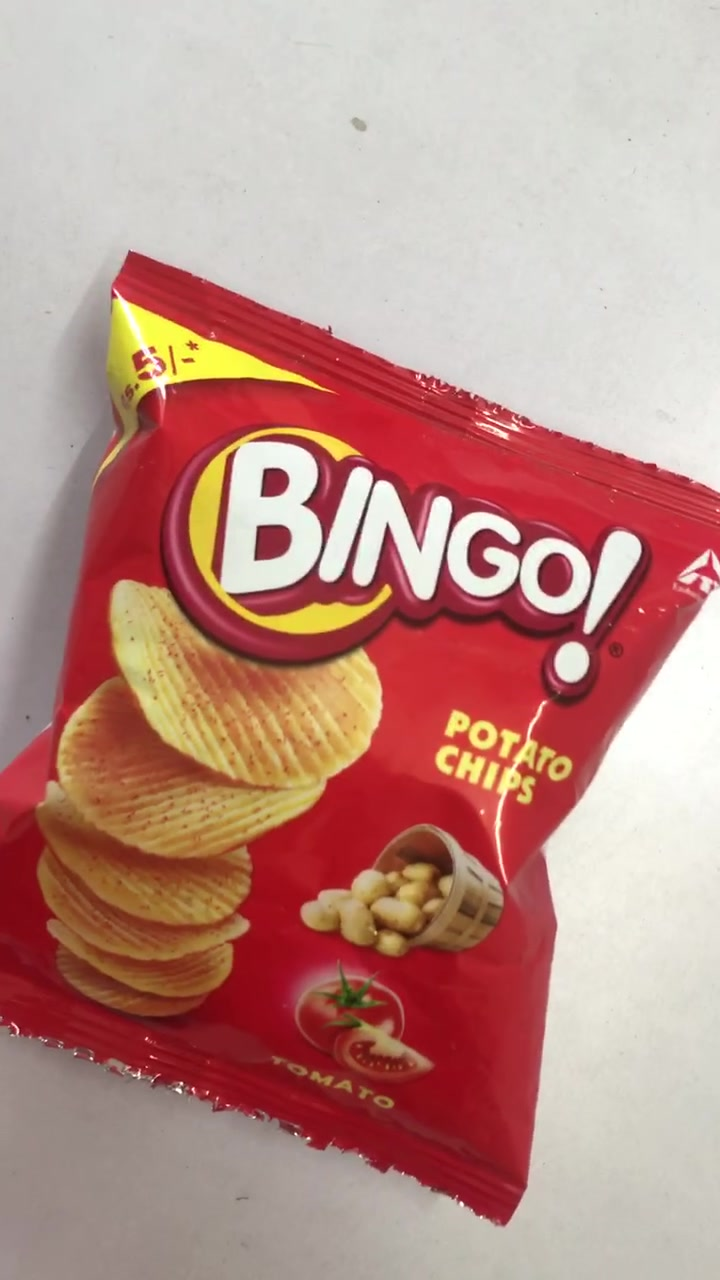Bingo: (1, 249, 714, 1220)
